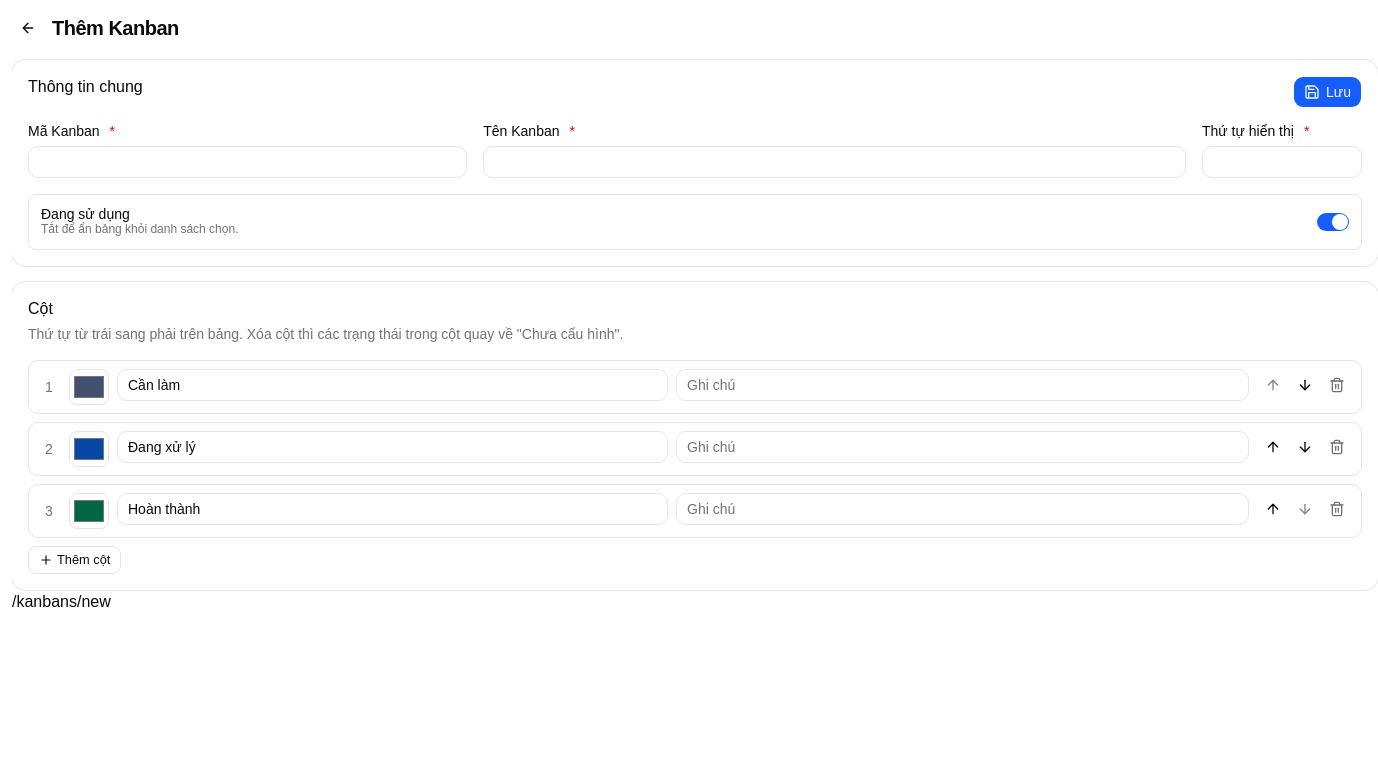
Test: KanbanCreatePage › sends column order from their position on the form
This screenshot has width=1378, height=780.
Type "KB_NEW" into the field labelled "Mã Kanban" at (248, 162), box [28,146,467,178]
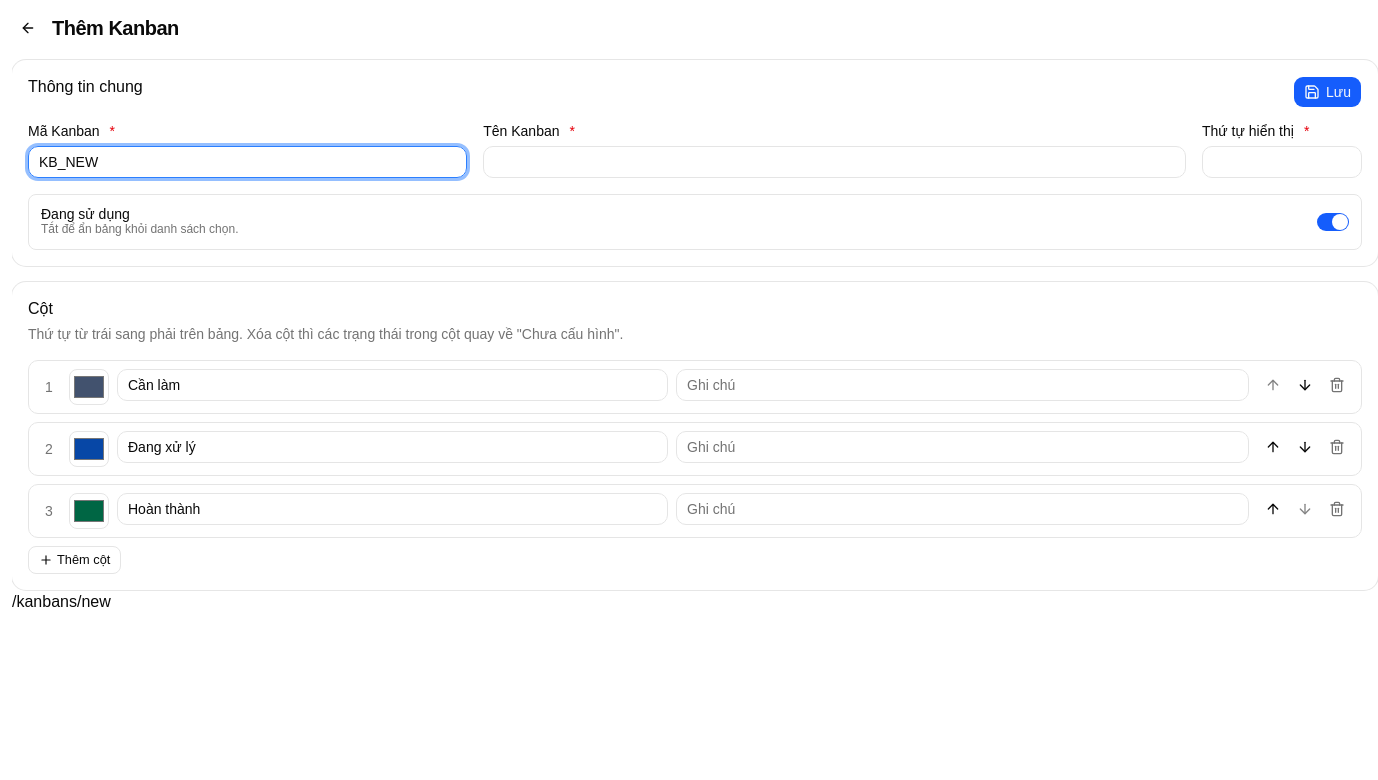
Type "Bảng mới" into the field labelled "Tên Kanban" at (835, 162), box [483,146,1186,178]
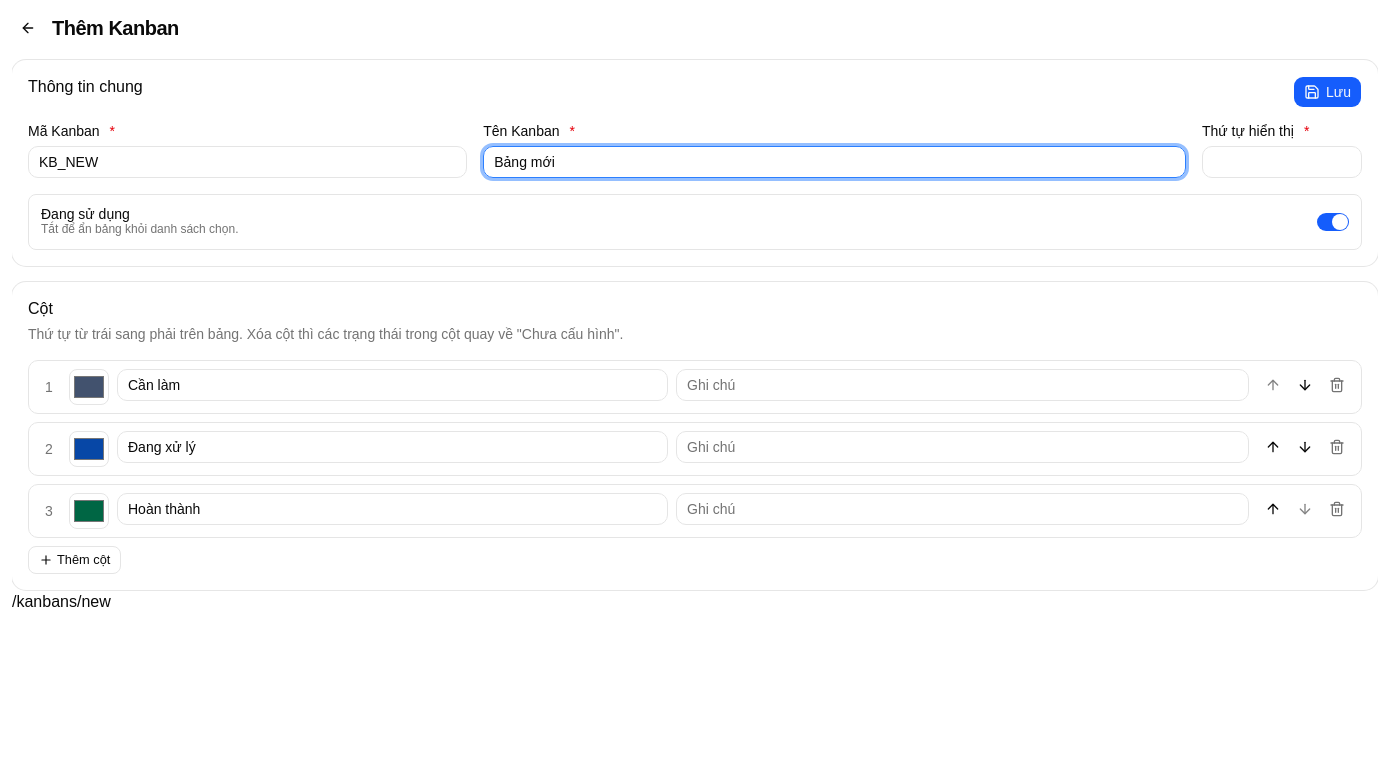
Type "2" into the field labelled "Thứ tự hiển thị" at (1282, 162), box [1202,146,1362,178]
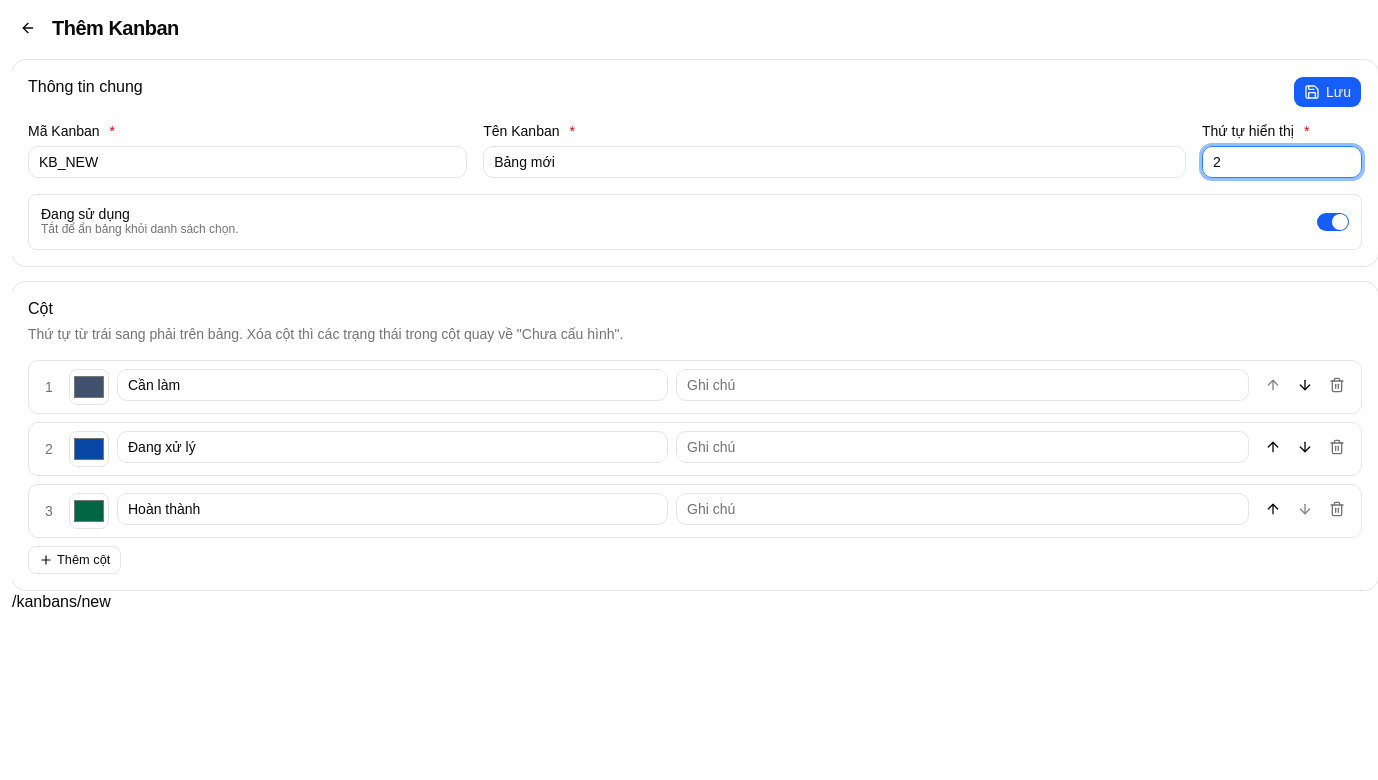
Click the button named "Đưa cột 3 lên" at (1273, 509), box [1257,493,1289,525]
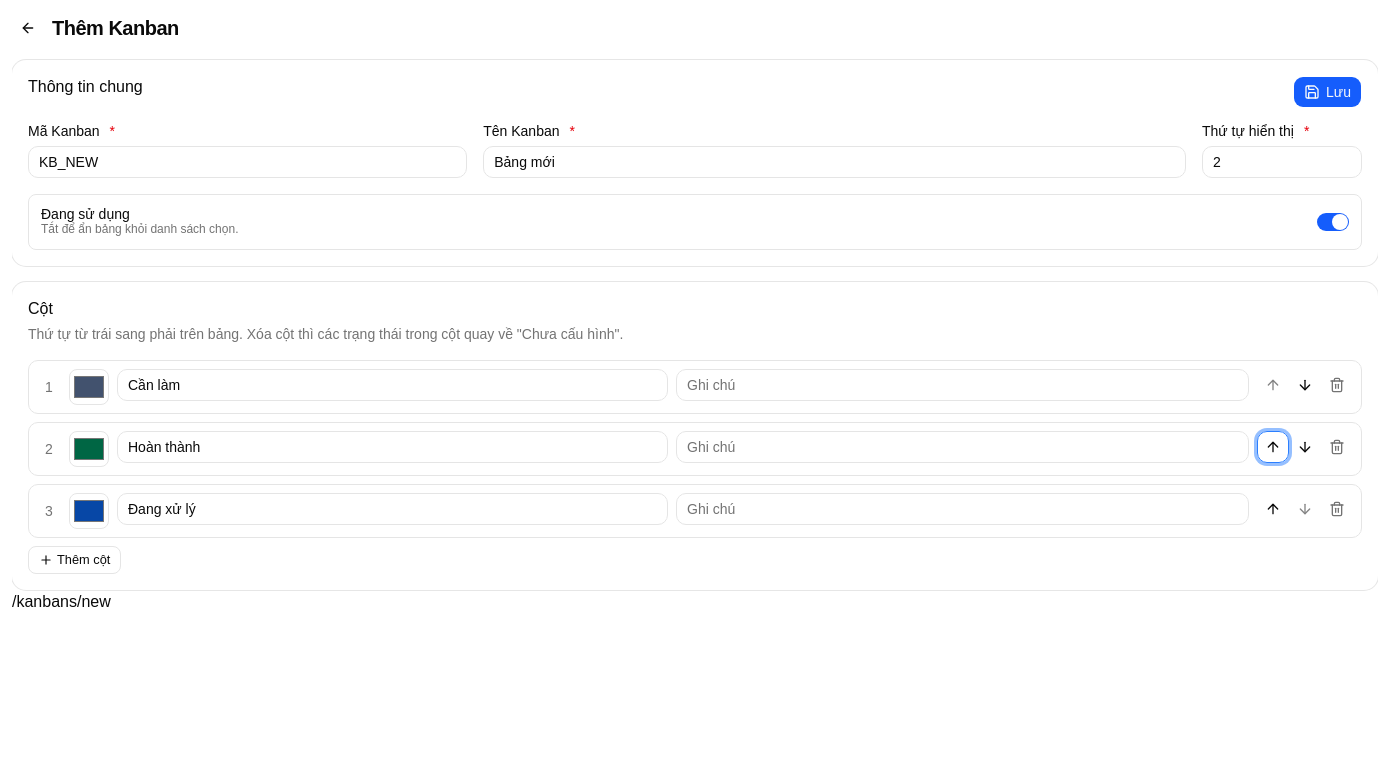
Click the button "Lưu" at (1328, 92), box [1293,76,1362,108]
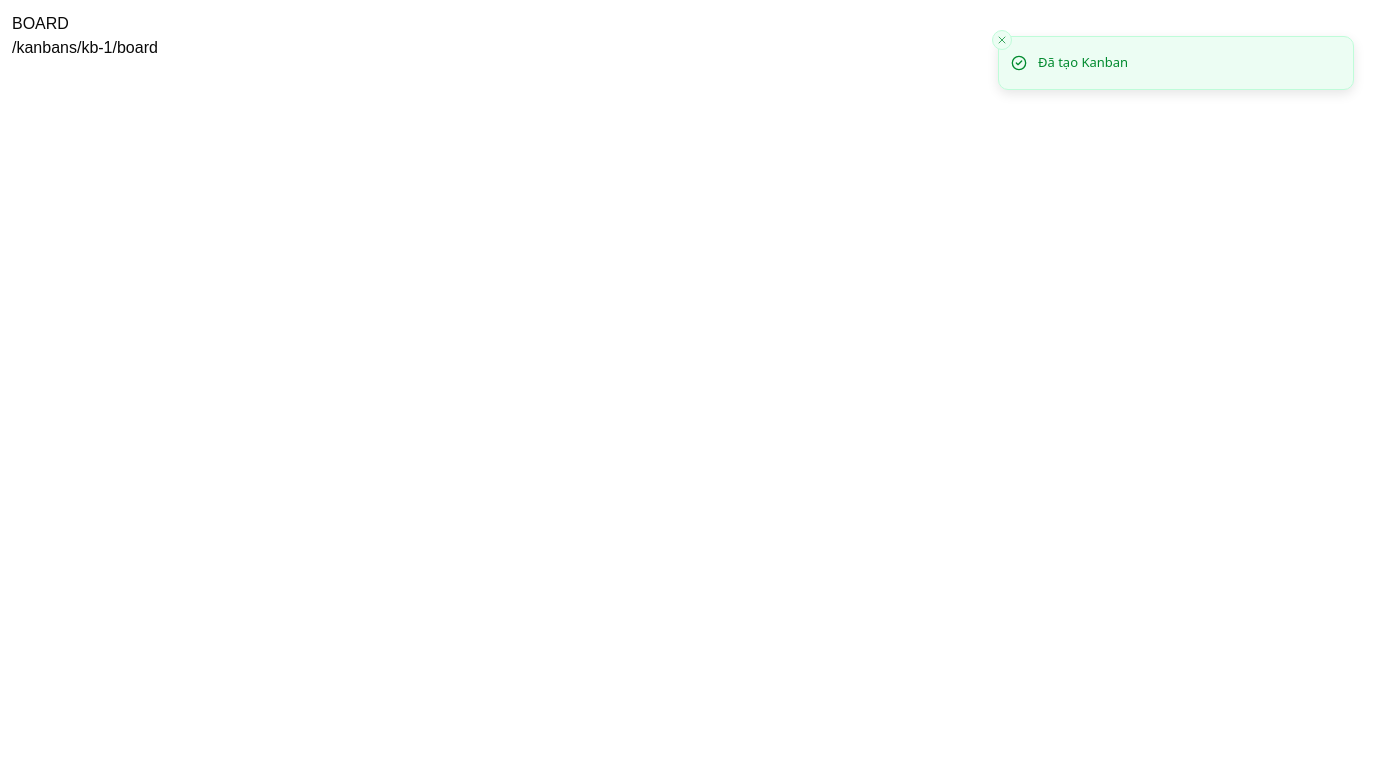
Expected: the text "BOARD" is shown, [12,15,69,32]
